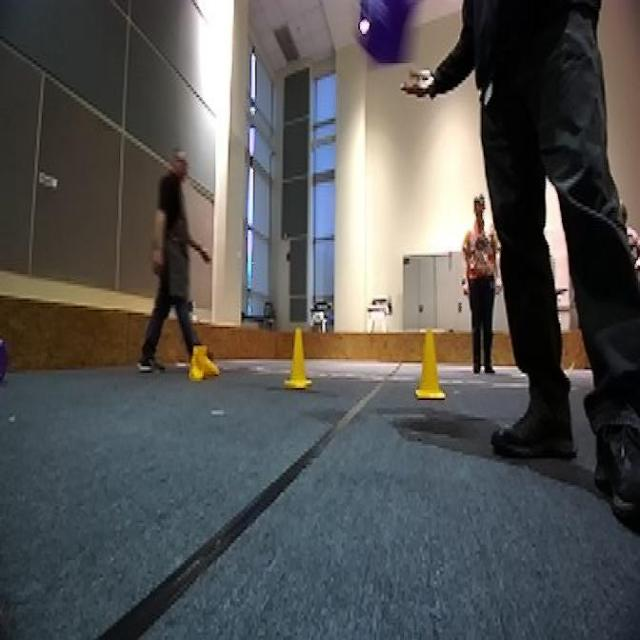frc_cone: (408, 328, 454, 398), (282, 328, 314, 386), (188, 348, 217, 382)
frc_cube: (349, 0, 421, 70), (0, 337, 10, 383)
